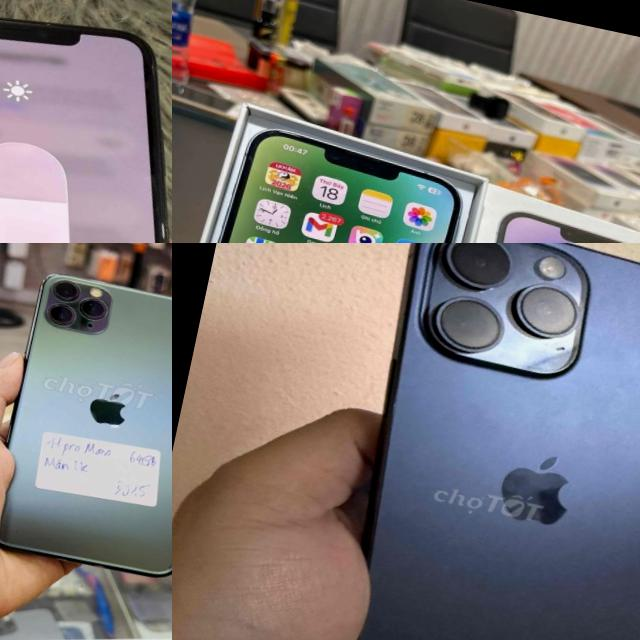gen_11: (0, 276, 172, 575), (0, 0, 172, 243)
gen_14: (172, 108, 480, 243)
gen_15: (297, 243, 640, 640)
physical_damage: (512, 334, 592, 390)
